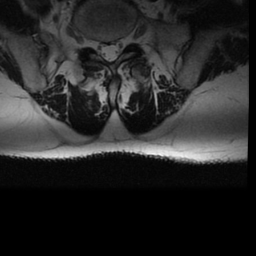CCS_normal: (105, 28, 114, 71)
LFS_normal: (122, 24, 132, 56)
LLS_normal: (114, 29, 123, 64)
RFS_normal: (88, 28, 97, 60)
RLS_normal: (97, 30, 105, 68)
